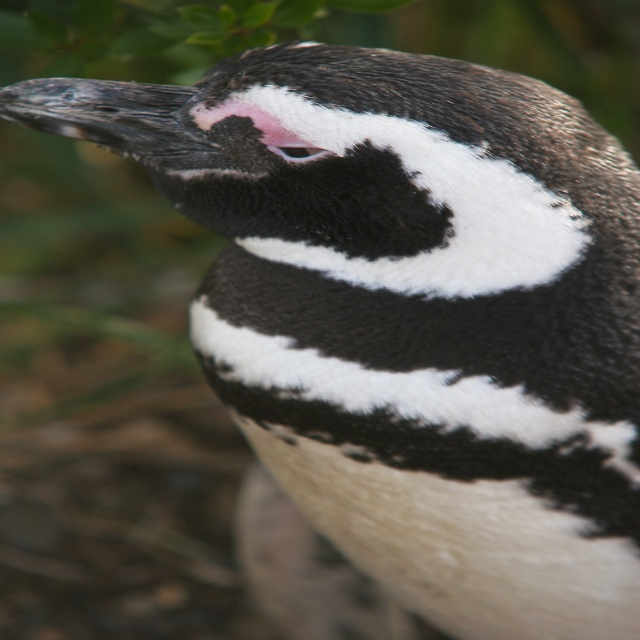Penguin: (59, 45, 614, 568)
